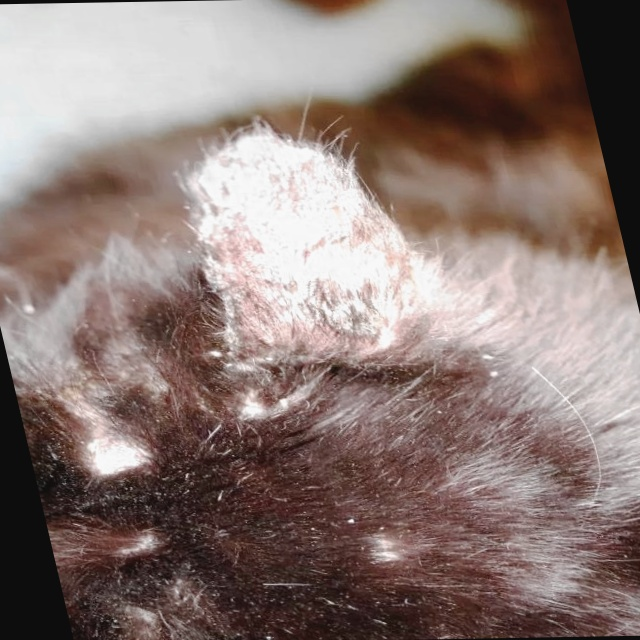ringworm: (220, 204, 401, 340)
